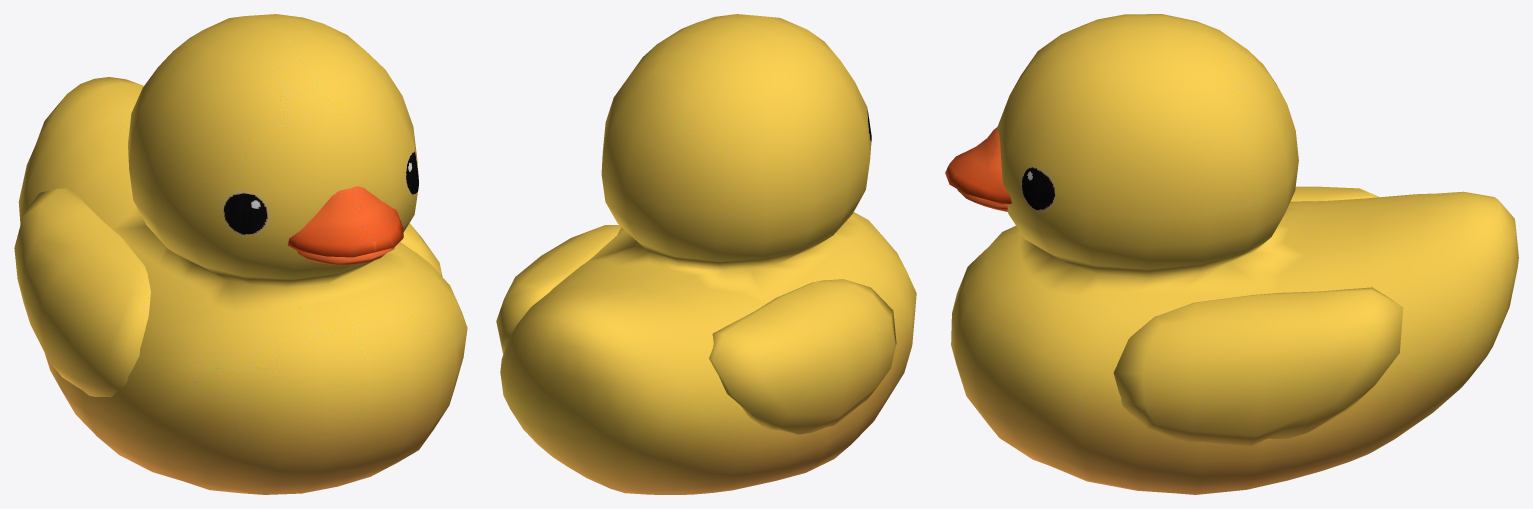
File: duck.gltf
3 renders of one model, left to right at view 1: azimuth 30°, elevation 25°; view 2: azimuth 150°, elevation 25°; view 3: azimuth 270°, elevation 25°, orthographic. The views are drawn at different scales.
Parts seen in each view (by area): view 1: Cube015_0, Cube012_1, Cube013_2; view 2: Cube015_0; view 3: Cube015_0, Cube012_1.
Boxes of the visible parts, bbox=[...] form: Cube015_0: bbox=[14, 14, 467, 494]; Cube012_1: bbox=[287, 186, 403, 257]; Cube013_2: bbox=[296, 247, 394, 265]; Cube015_0: bbox=[496, 14, 916, 494]; Cube015_0: bbox=[951, 14, 1518, 494]; Cube012_1: bbox=[945, 127, 1011, 204].
Bounding box in the file's own units: 1.06 × 1.24 × 1.52.
Materials: 1 (1 with a texture image).
